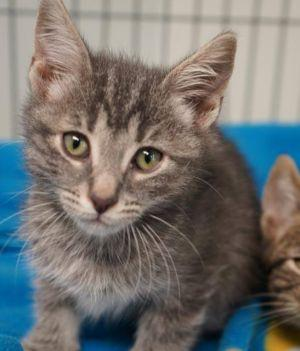bengal: (18, 1, 240, 239)
